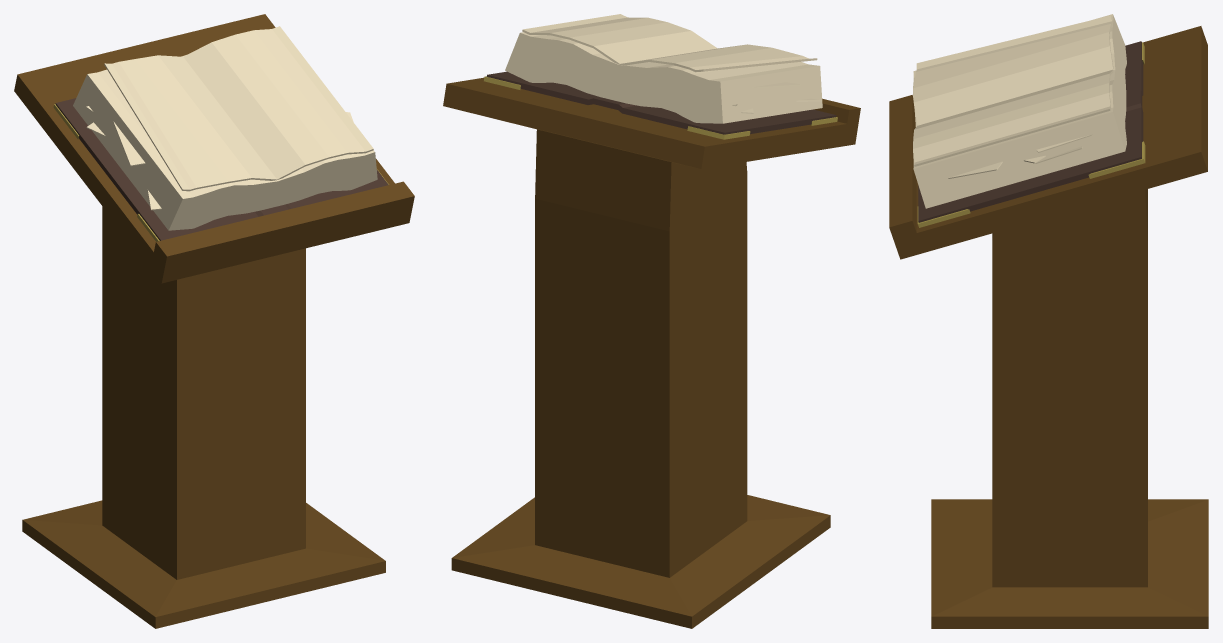
File: Pedestal.glb
3 views of the same model, side by side, from view 1: azimuth 30°, elevation 25°; view 2: azimuth 150°, elevation 25°; view 3: azimuth 270°, elevation 25° (orthographic). The views are drawn at different scales.
Visible parts, largest first — view 1: Pulpit, Book3_Open; view 2: Pulpit, Book3_Open; view 3: Pulpit, Book3_Open.
Boxes of the visible parts, x1,y1,x2,y2 form: Pulpit: (14, 14, 414, 628); Book3_Open: (53, 26, 388, 241); Pulpit: (443, 77, 860, 628); Book3_Open: (484, 14, 837, 139); Pulpit: (889, 26, 1208, 628); Book3_Open: (913, 14, 1145, 227).
Size of the model in its own units: 0.4874 by 0.9278 by 0.5223.
